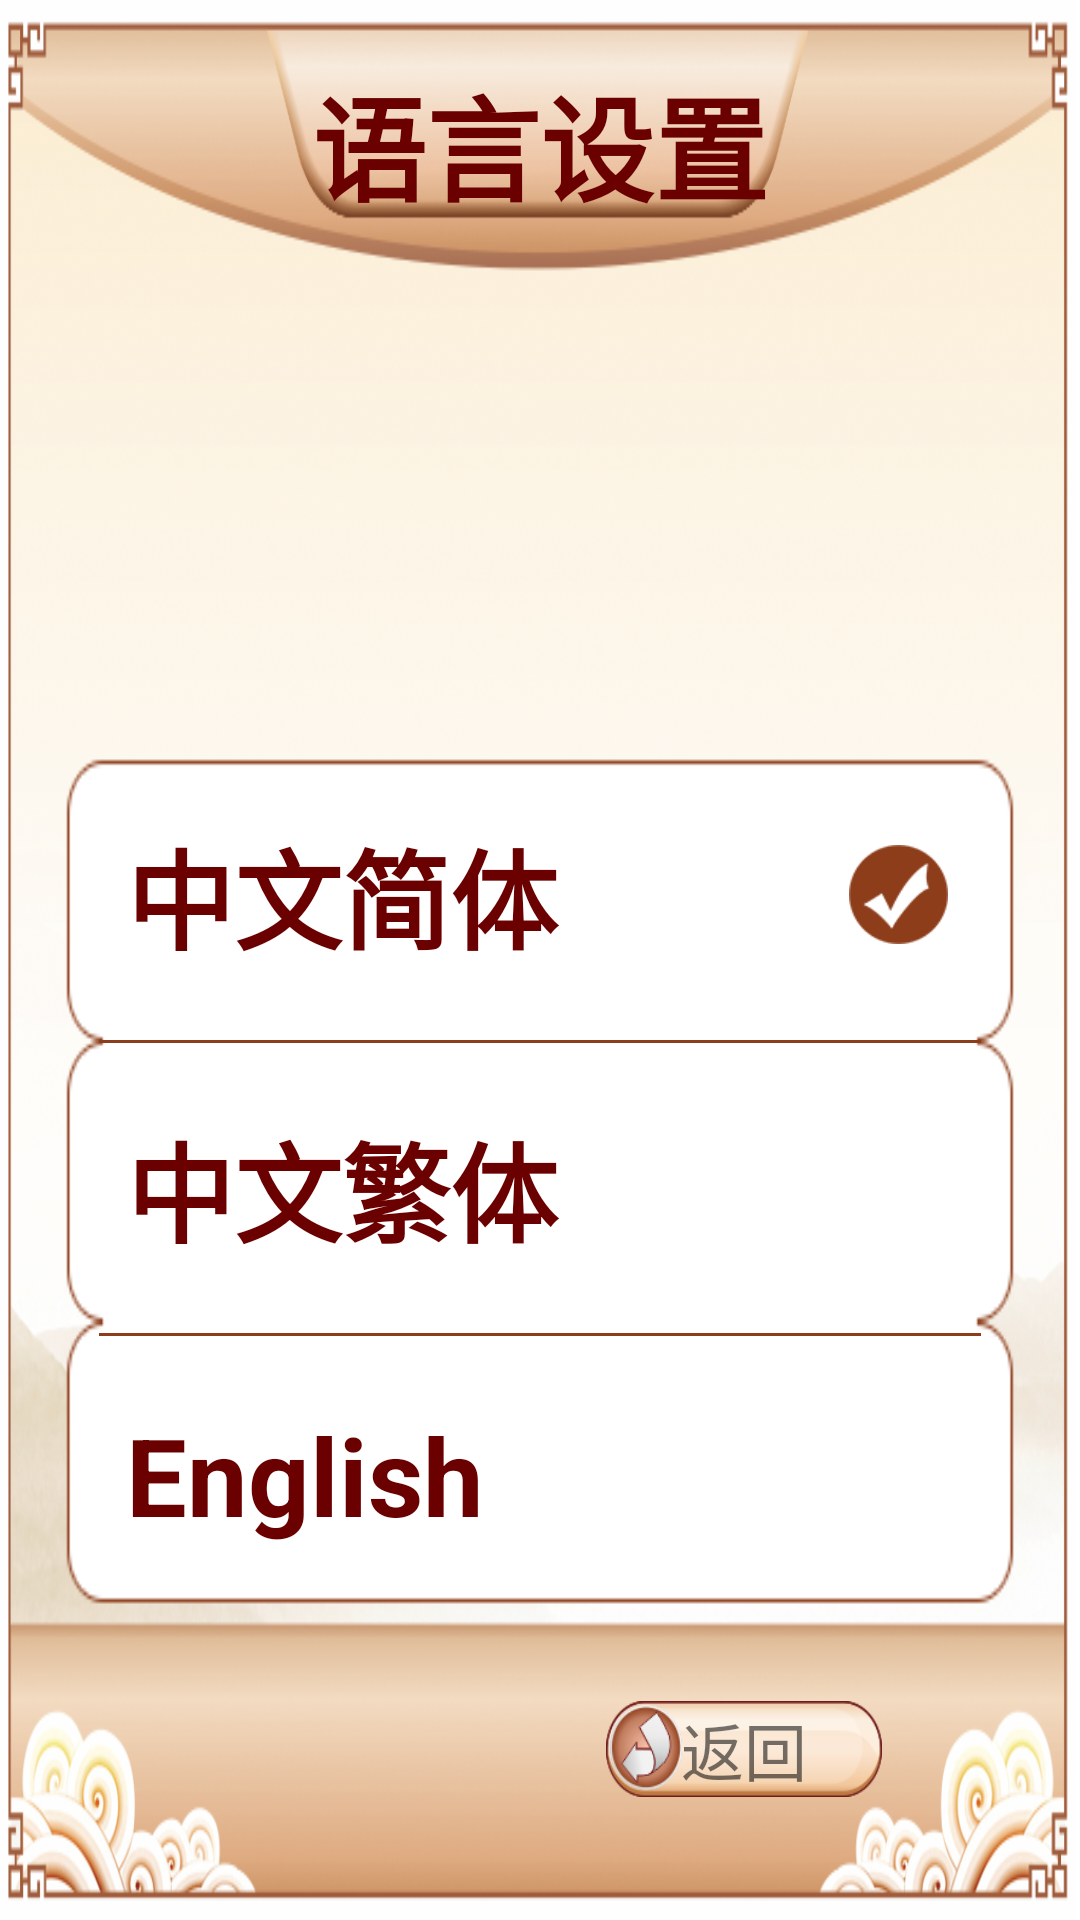

Locate icon controls on the screen. Image size 1080x1920, boxes as [x1=x1, y1=y1, x2=x2, y2=y2].
setting lg checked: [x1=849, y1=845, x2=948, y2=944]
